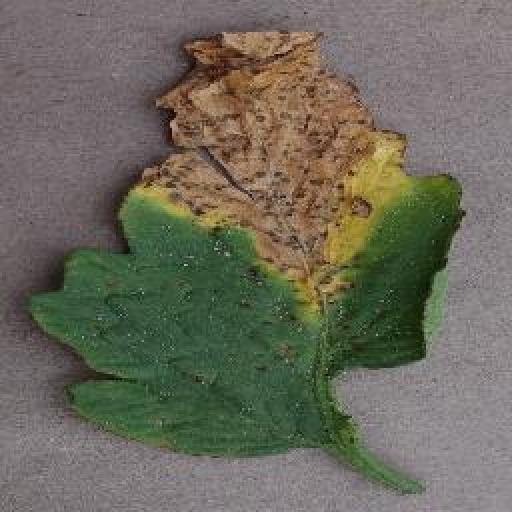Bacterial Spot: (21, 25, 471, 463)
